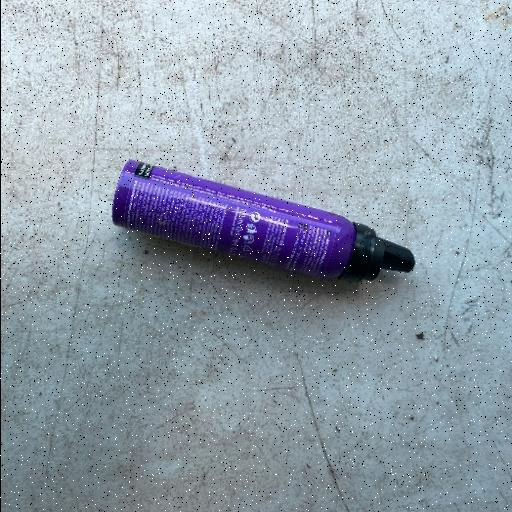Metal: (110, 156, 416, 286)
